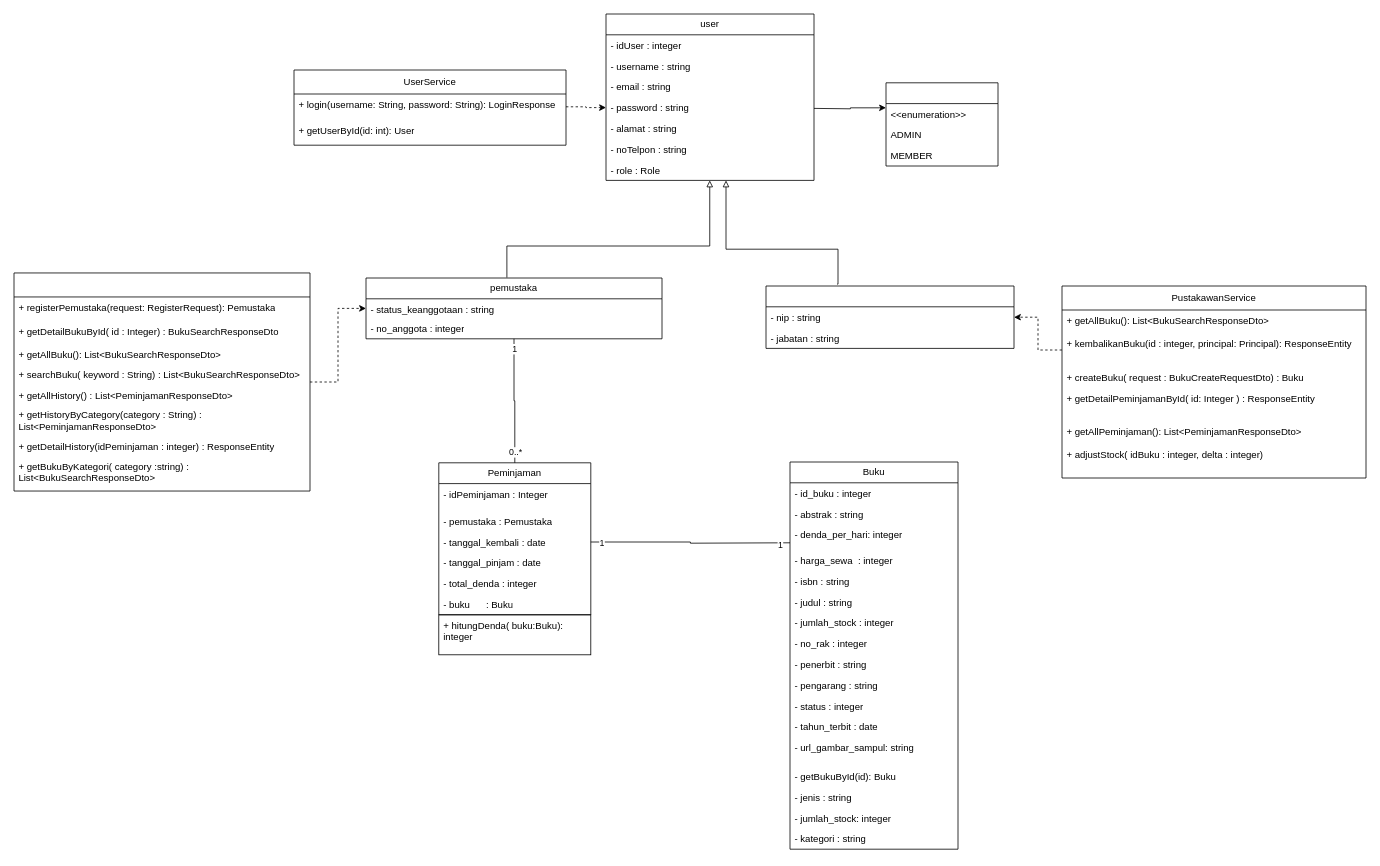
Some shapes in this 1380 by 866 pixel diagram are drawn without their labels. The box of each missing label's shape, as (x1, y1, x2, y2) in pixels:
PemustakaService: (13, 272, 310, 491)
pustakawan: (765, 285, 1014, 348)
Role: (885, 82, 998, 166)
